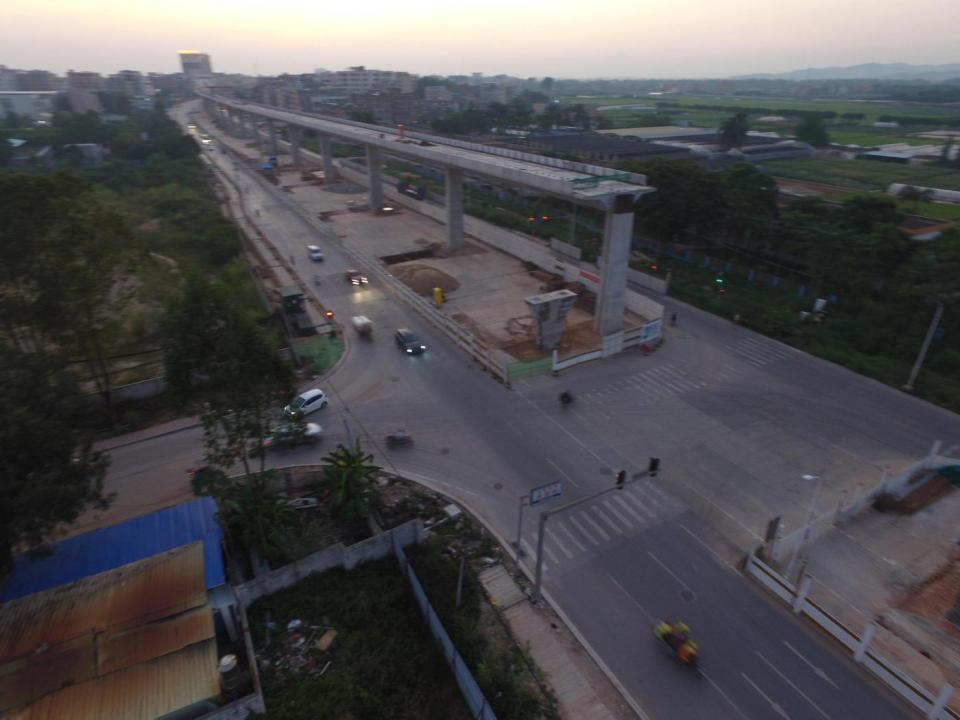car: (258, 422, 323, 448), (284, 389, 328, 420), (395, 327, 425, 354), (345, 271, 365, 285)
van: (308, 246, 323, 262)
